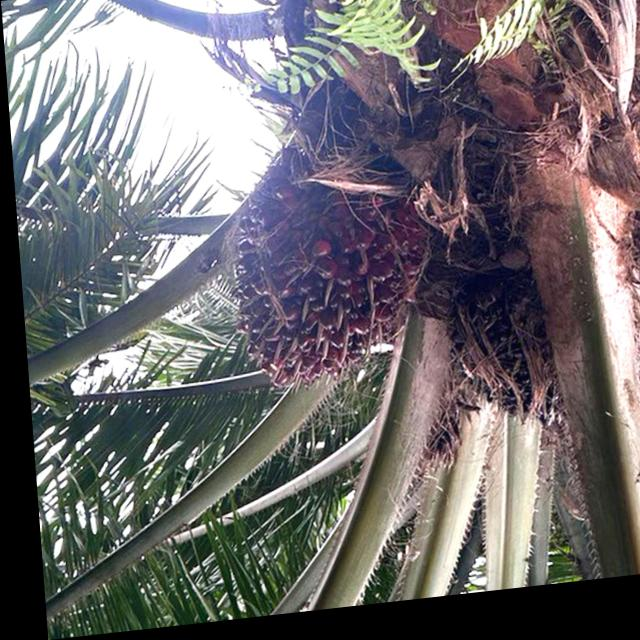ripe: (206, 154, 430, 406), (433, 269, 564, 457)
